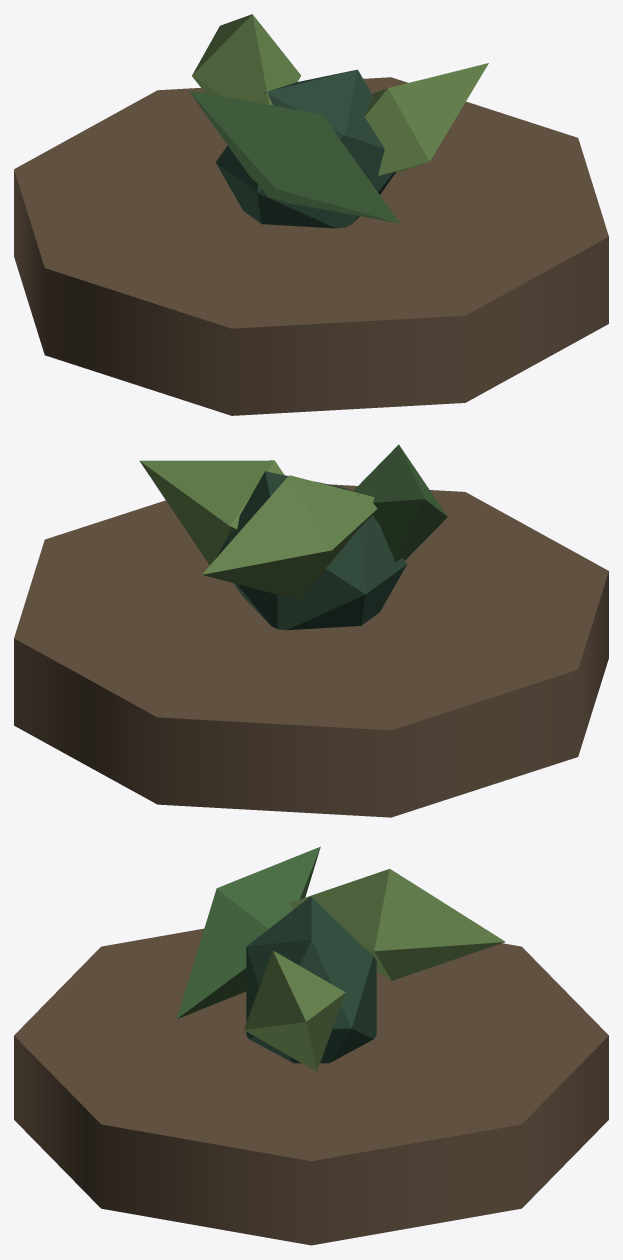
File: plant-fern-0.glb
3 renders of one model, top to bottom at view 1: azimuth 30°, elevation 25°; view 2: azimuth 150°, elevation 25°; view 3: azimuth 270°, elevation 25°, orthographic. The views are drawn at different scales.
Parts seen in each view (by area): view 1: plant-fern-0-visual; view 2: plant-fern-0-visual; view 3: plant-fern-0-visual.
Part boxes in pixels (box(x1,y1,x2,y2)): plant-fern-0-visual: box(14, 14, 608, 415); plant-fern-0-visual: box(14, 444, 608, 817); plant-fern-0-visual: box(14, 846, 608, 1245).
Bounding box in the file's own units: 0.32 × 0.1438 × 0.32.
